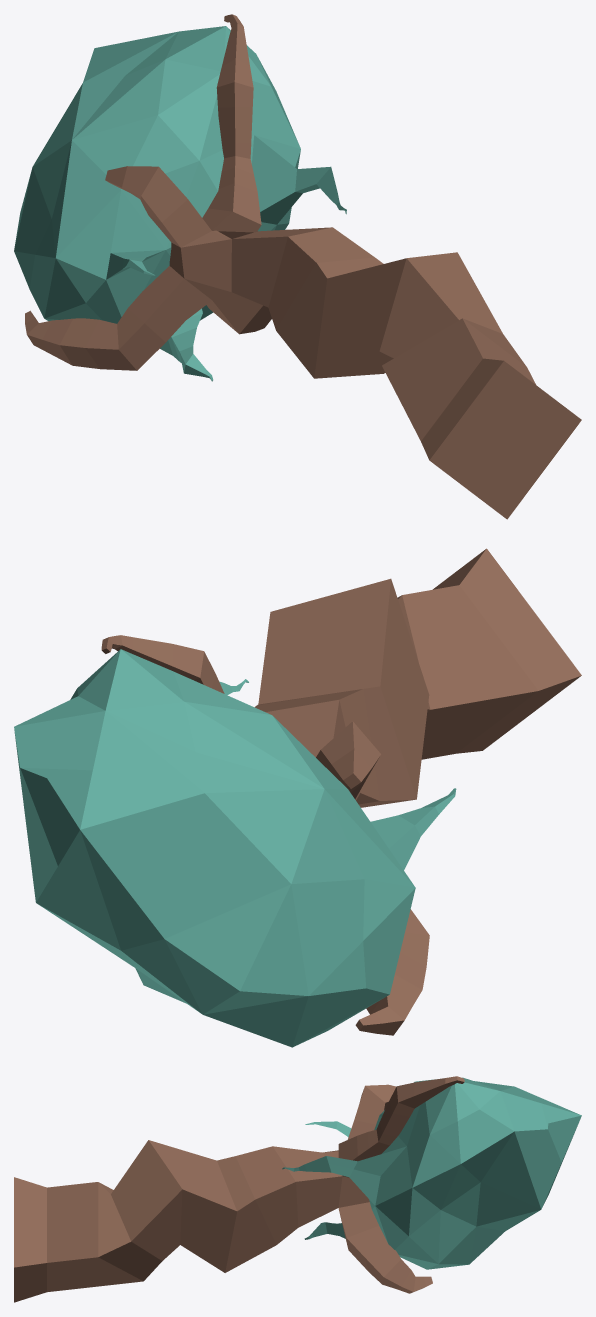
The model's file is tree3_terrain.fbx.
The picture shows the model from 3 angles, top to bottom: view 1: azimuth 30°, elevation 25°; view 2: azimuth 150°, elevation 25°; view 3: azimuth 270°, elevation 25°; orthographic projection. The views are drawn at different scales.
Visible parts, largest first — view 1: Plane; view 2: Plane; view 3: Plane.
Boxes of the visible parts, left/top/right/bottom form: Plane: left=14, top=14, right=581, bottom=519; Plane: left=14, top=548, right=581, bottom=1047; Plane: left=14, top=1076, right=581, bottom=1302.
Bounding box in the file's own units: 15790 × 15660 × 35049.
